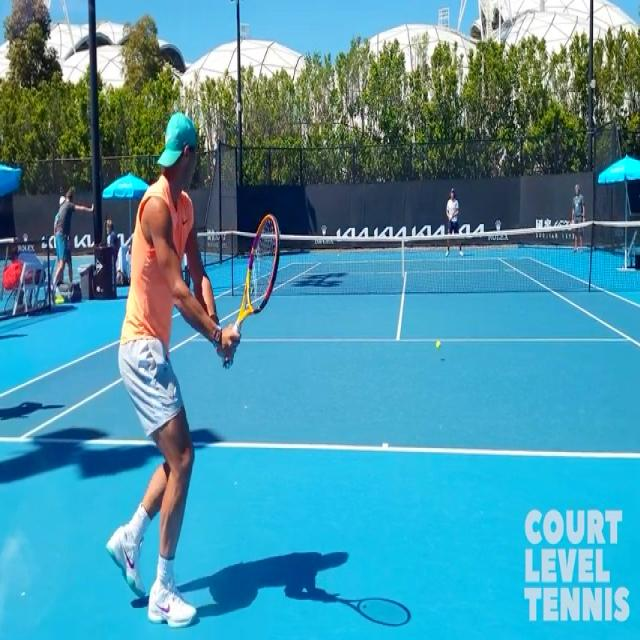backhand-ready: (106, 118, 282, 623)
